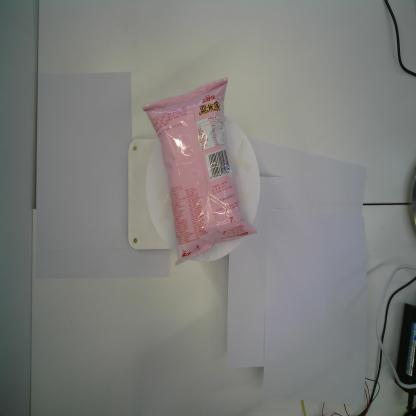Puffed Food: (141, 76, 258, 267)
